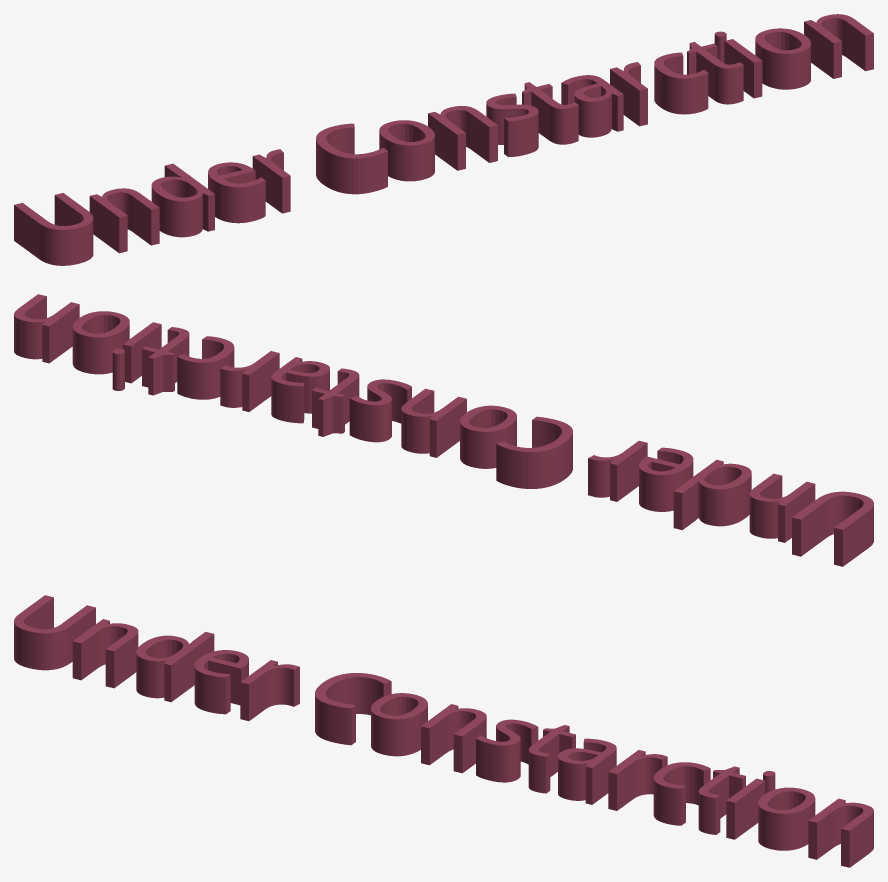
The model's file is Smashing Sango.glb.
The picture shows the model from 3 angles, top to bottom: view 1: azimuth 30°, elevation 25°; view 2: azimuth 150°, elevation 25°; view 3: azimuth 330°, elevation 25°; orthographic projection. The views are drawn at different scales.
Visible parts, largest first — view 1: Mesh_Mesh_head_geo.001_lambert2SG.001; view 2: Mesh_Mesh_head_geo.001_lambert2SG.001; view 3: Mesh_Mesh_head_geo.001_lambert2SG.001.
Boxes of the visible parts, x1,y1,x2,y2 form: Mesh_Mesh_head_geo.001_lambert2SG.001: (14,14,873,265); Mesh_Mesh_head_geo.001_lambert2SG.001: (14,294,873,566); Mesh_Mesh_head_geo.001_lambert2SG.001: (14,595,873,867).
Size of the model in its own units: 0.2393 by 0.01 by 0.0214.
